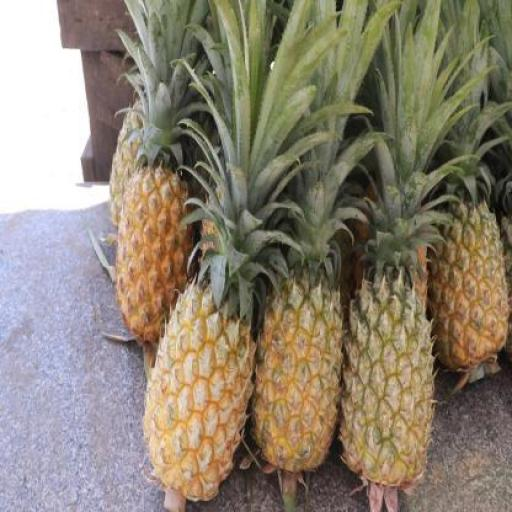------------------------------: (342, 276, 432, 481)
Pineapple - v8 v1: (146, 292, 252, 503), (253, 275, 345, 470), (114, 164, 190, 350), (434, 204, 509, 372)
